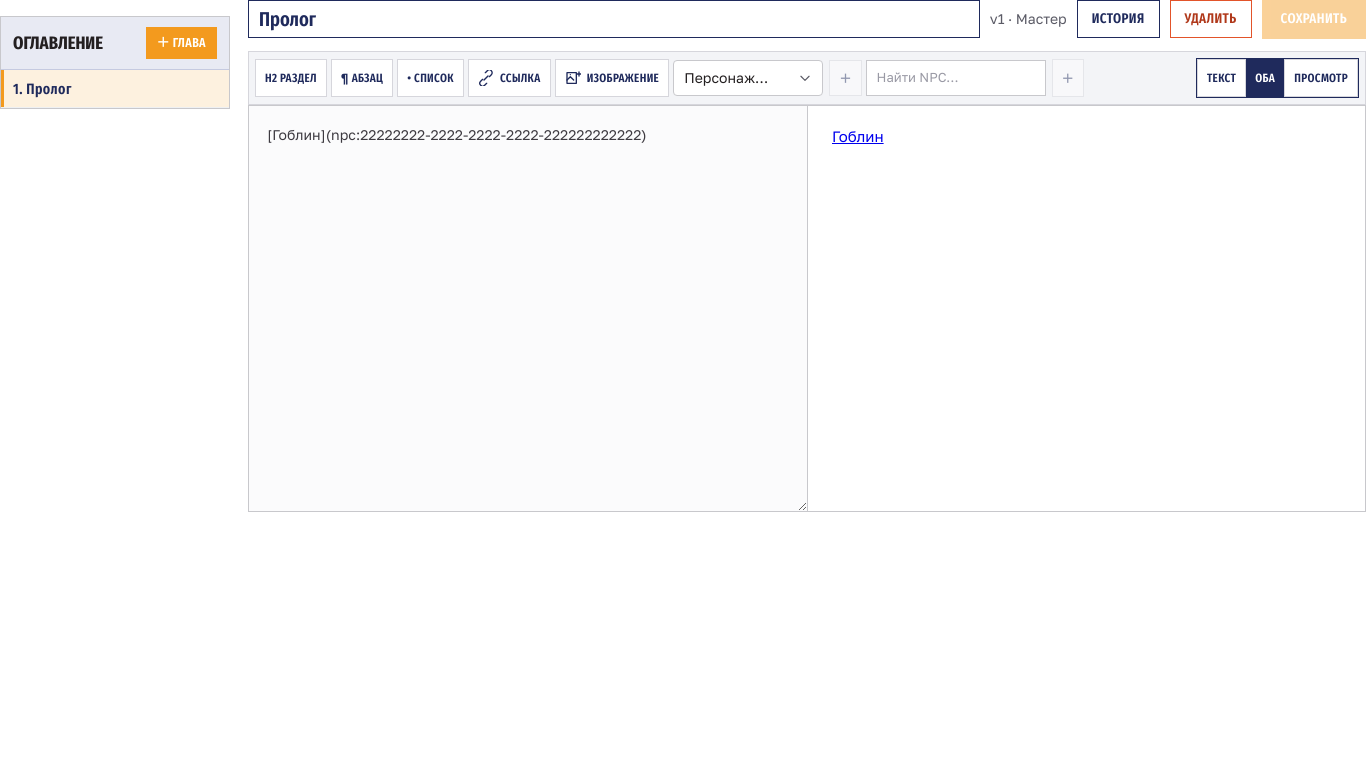
Test: CampaignChronicleTab — links › uses canonical skills, attack fallback, range labels and safe symbols in the chronicle modal
Click the link "Гоблин" at (858, 136), box [832, 127, 884, 145]
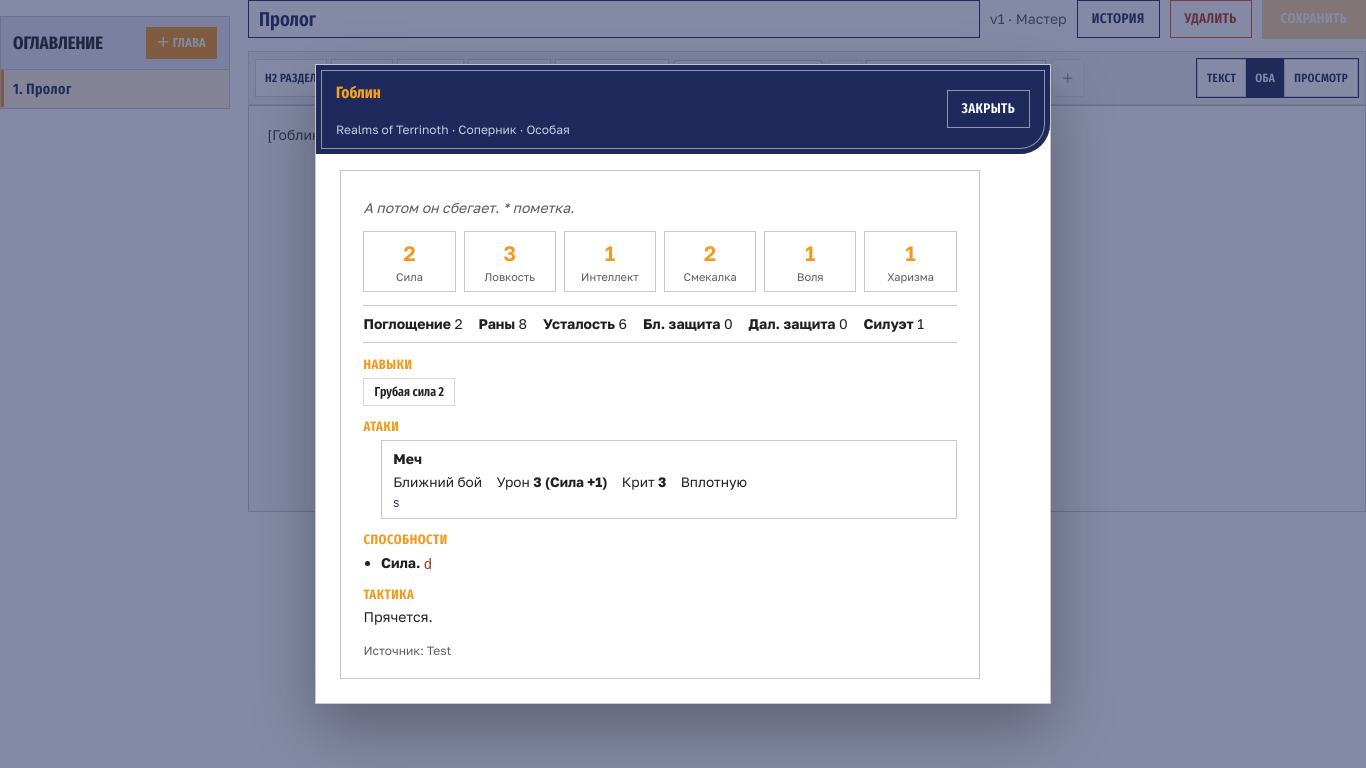
Expected: the text "Грубая сила 2" is shown, [363, 378, 455, 406]
Expected: the text "Ближний бой" is shown, [393, 473, 482, 493]
Expected: the text "Вплотную" is shown, [681, 473, 747, 493]
